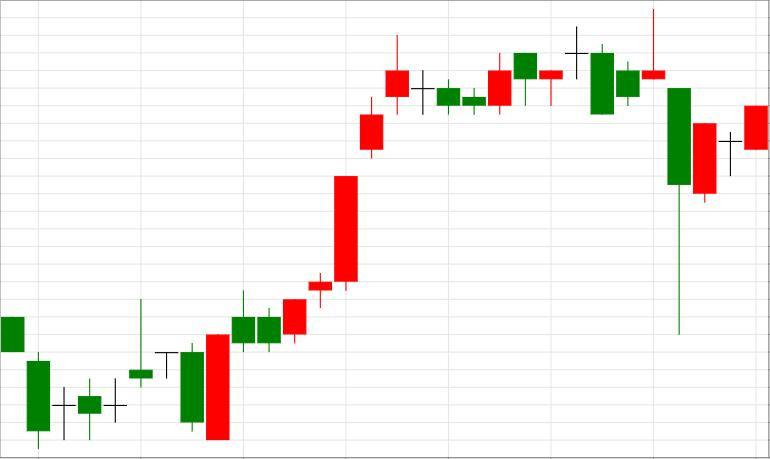shooting_star_fall: (207, 34, 409, 441)
